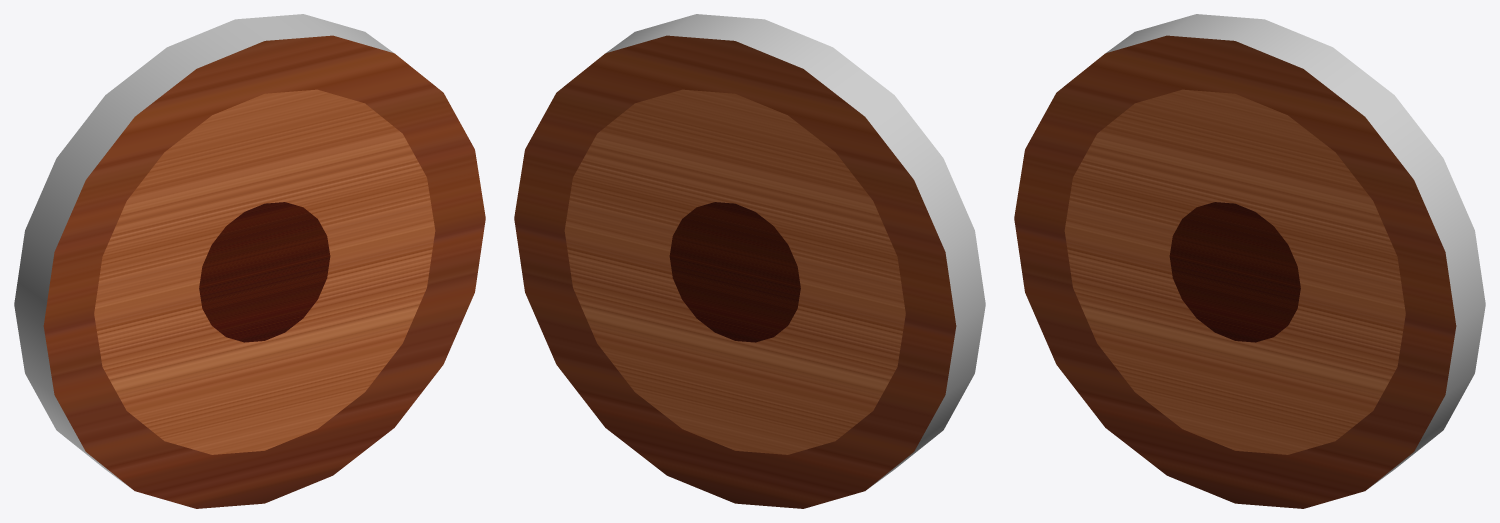
Rendered from target.fbx.
3 views of the same model, side by side, from view 1: azimuth 30°, elevation 25°; view 2: azimuth 150°, elevation 25°; view 3: azimuth 330°, elevation 25° (orthographic).
Parts seen in each view (by area): view 1: pCylinder1; view 2: pCylinder1; view 3: pCylinder1.
Boxes of the visible parts, bbox=[...] form: pCylinder1: bbox=[14, 14, 485, 508]; pCylinder1: bbox=[514, 14, 985, 508]; pCylinder1: bbox=[1014, 14, 1485, 508].
Size of the model in its own units: 2.44 by 2.44 by 0.282.
